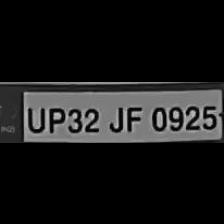0: (146, 102, 168, 132)
2: (80, 103, 102, 133), (182, 102, 200, 131)
3: (66, 103, 82, 133)
5: (198, 102, 218, 130)
9: (166, 102, 184, 131)
F: (122, 102, 144, 132)
J: (104, 101, 124, 133)
P: (44, 103, 64, 133)
U: (23, 102, 44, 132)
